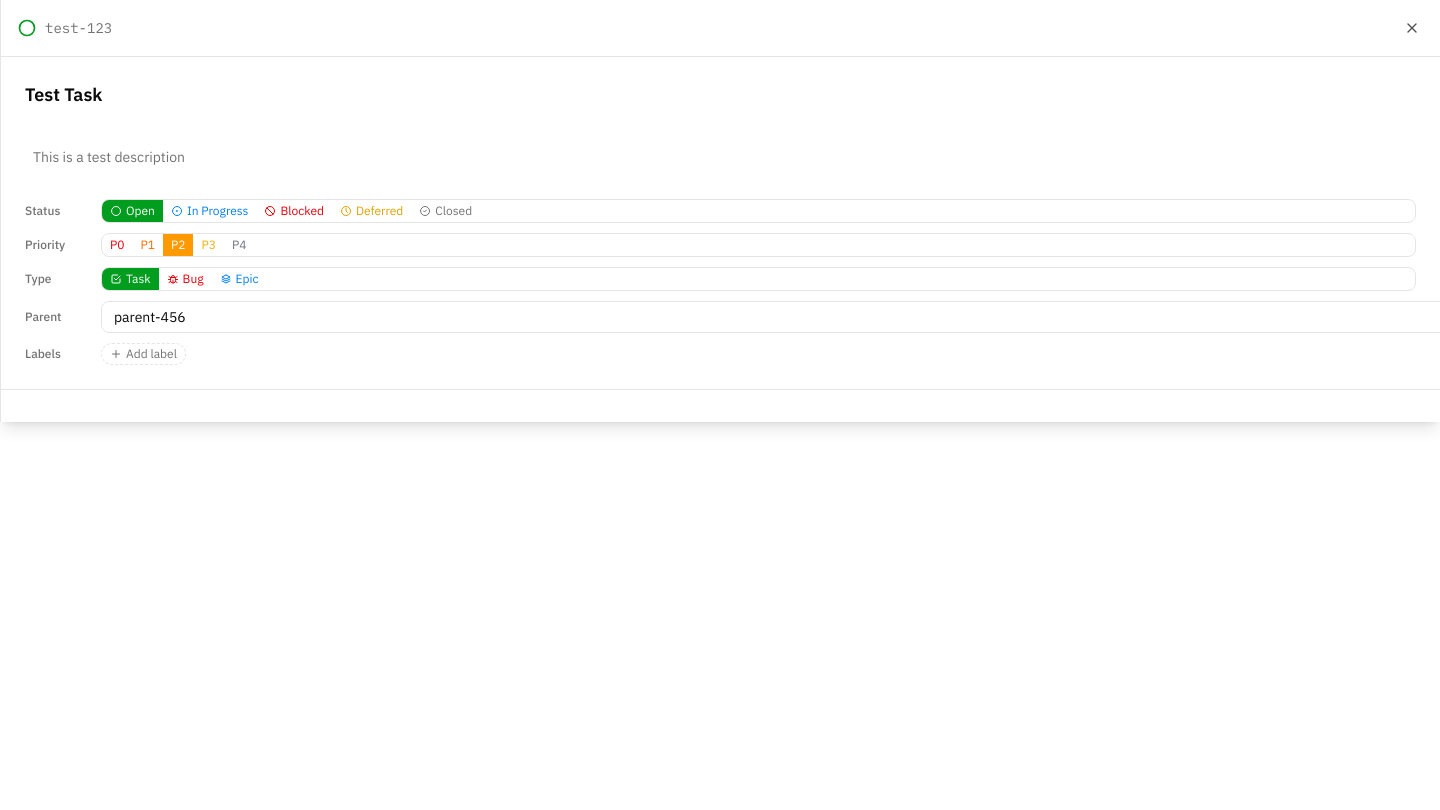
Scenario: TaskDetailsDialog › labels › shows label input when Add label is clicked
Click the button "Add label" at point(143, 354), box [101,343,186,365]
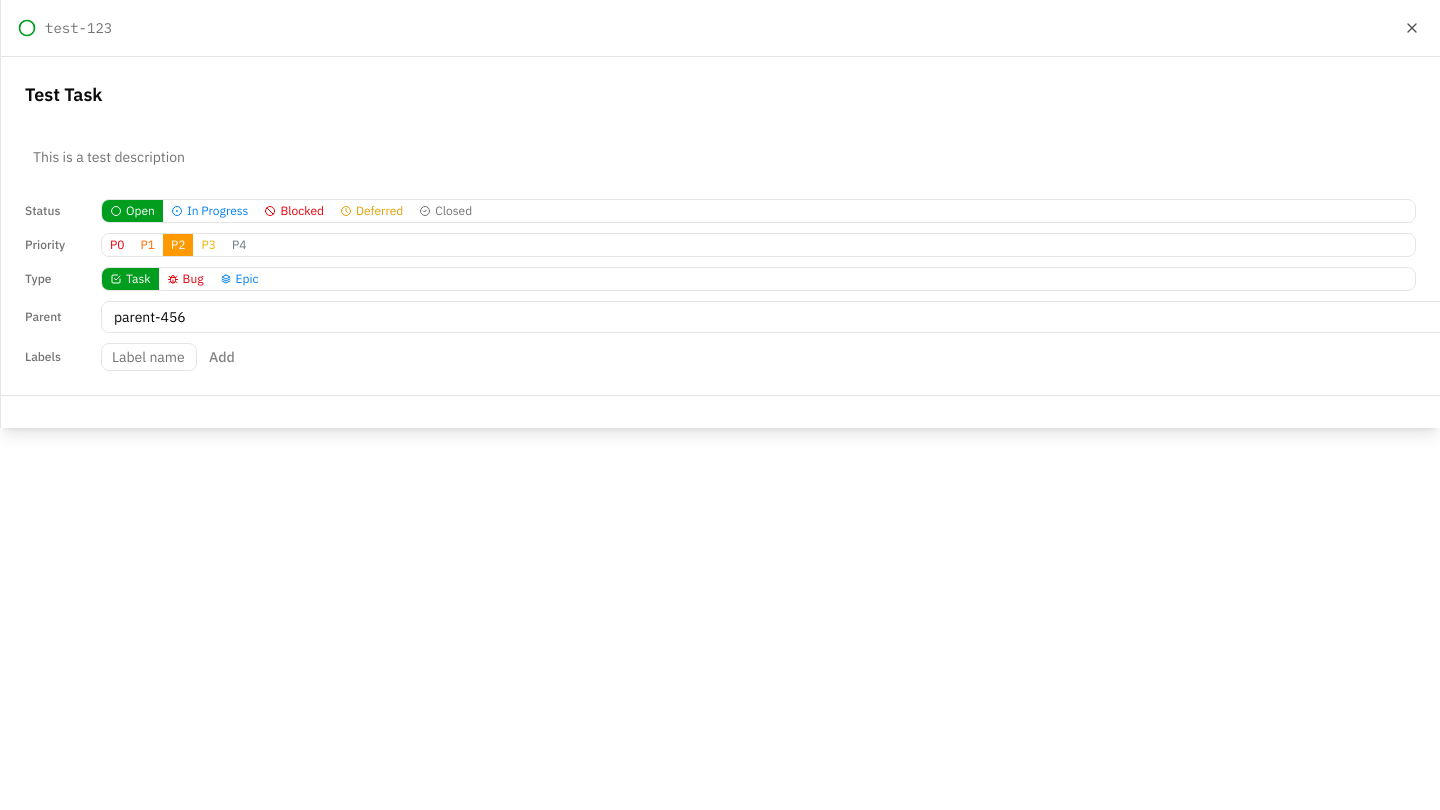
Expected: the field with placeholder "Label name" is shown, [101,343,197,371]
